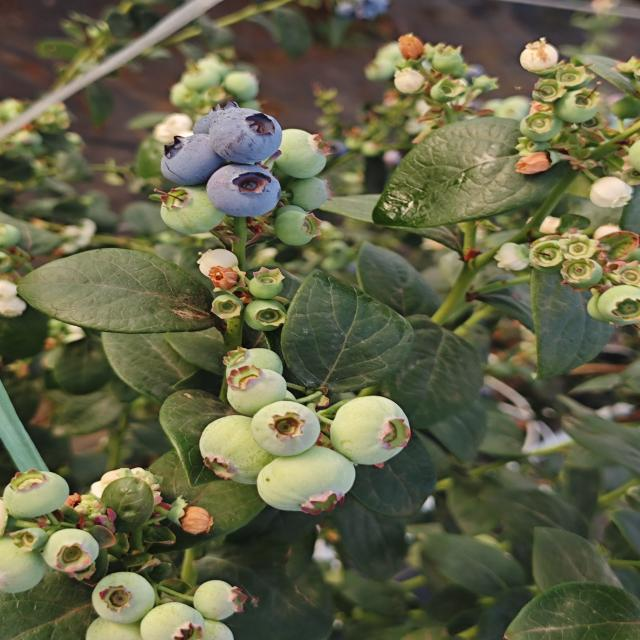ripe: (196, 109, 285, 161), (199, 165, 283, 219), (147, 131, 224, 181)
